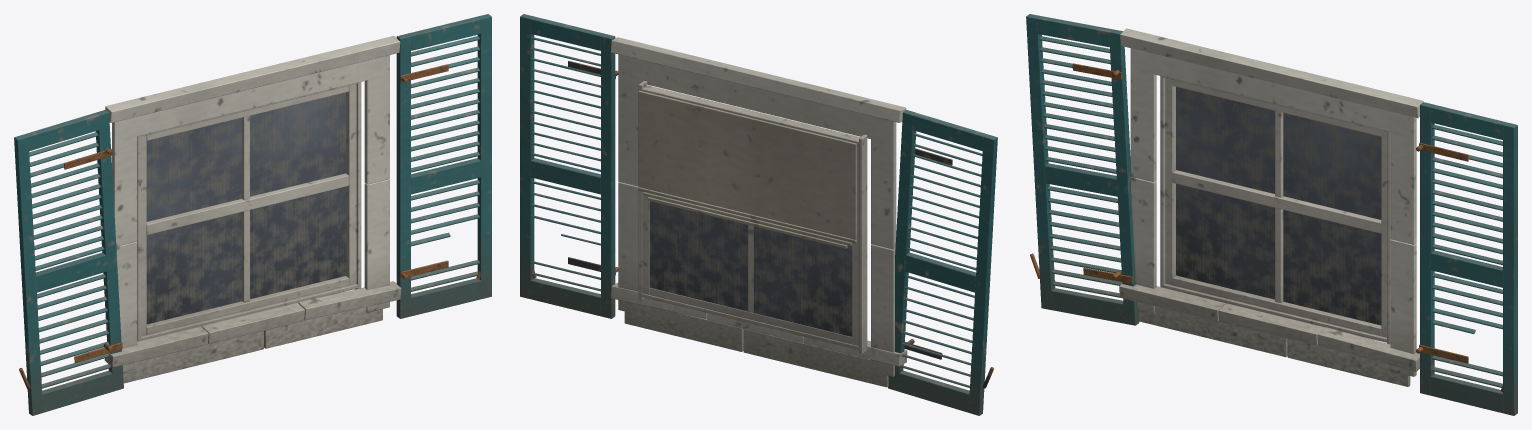
Rendered from window_shuttered.glb.
3 renders of one model, left to right at view 1: azimuth 30°, elevation 25°; view 2: azimuth 150°, elevation 25°; view 3: azimuth 330°, elevation 25°, orthographic. The views are drawn at different scales.
Visible parts, largest first — view 1: window_shuttered_WearPaintedTrimA, window_shuttered_WearDirtyGlassA, window_shuttered_WearRustedIronA; view 2: window_shuttered_WearPaintedTrimA, window_shuttered_WearDirtyGlassA, window_shuttered_WearRustedIronA; view 3: window_shuttered_WearPaintedTrimA, window_shuttered_WearDirtyGlassA, window_shuttered_WearRustedIronA.
Boxes of the visible parts, x1,y1,x2,y2 form: window_shuttered_WearPaintedTrimA: [14, 14, 491, 415]; window_shuttered_WearDirtyGlassA: [146, 92, 346, 324]; window_shuttered_WearRustedIronA: [19, 64, 480, 389]; window_shuttered_WearPaintedTrimA: [520, 14, 997, 415]; window_shuttered_WearDirtyGlassA: [649, 201, 852, 336]; window_shuttered_WearRustedIronA: [532, 61, 993, 388]; window_shuttered_WearPaintedTrimA: [1026, 14, 1517, 415]; window_shuttered_WearDirtyGlassA: [1176, 87, 1381, 325]; window_shuttered_WearRustedIronA: [1030, 63, 1502, 391].
Size of the model in its own units: 2.48 by 1.44 by 0.1632.
3 materials, 3 textured.
